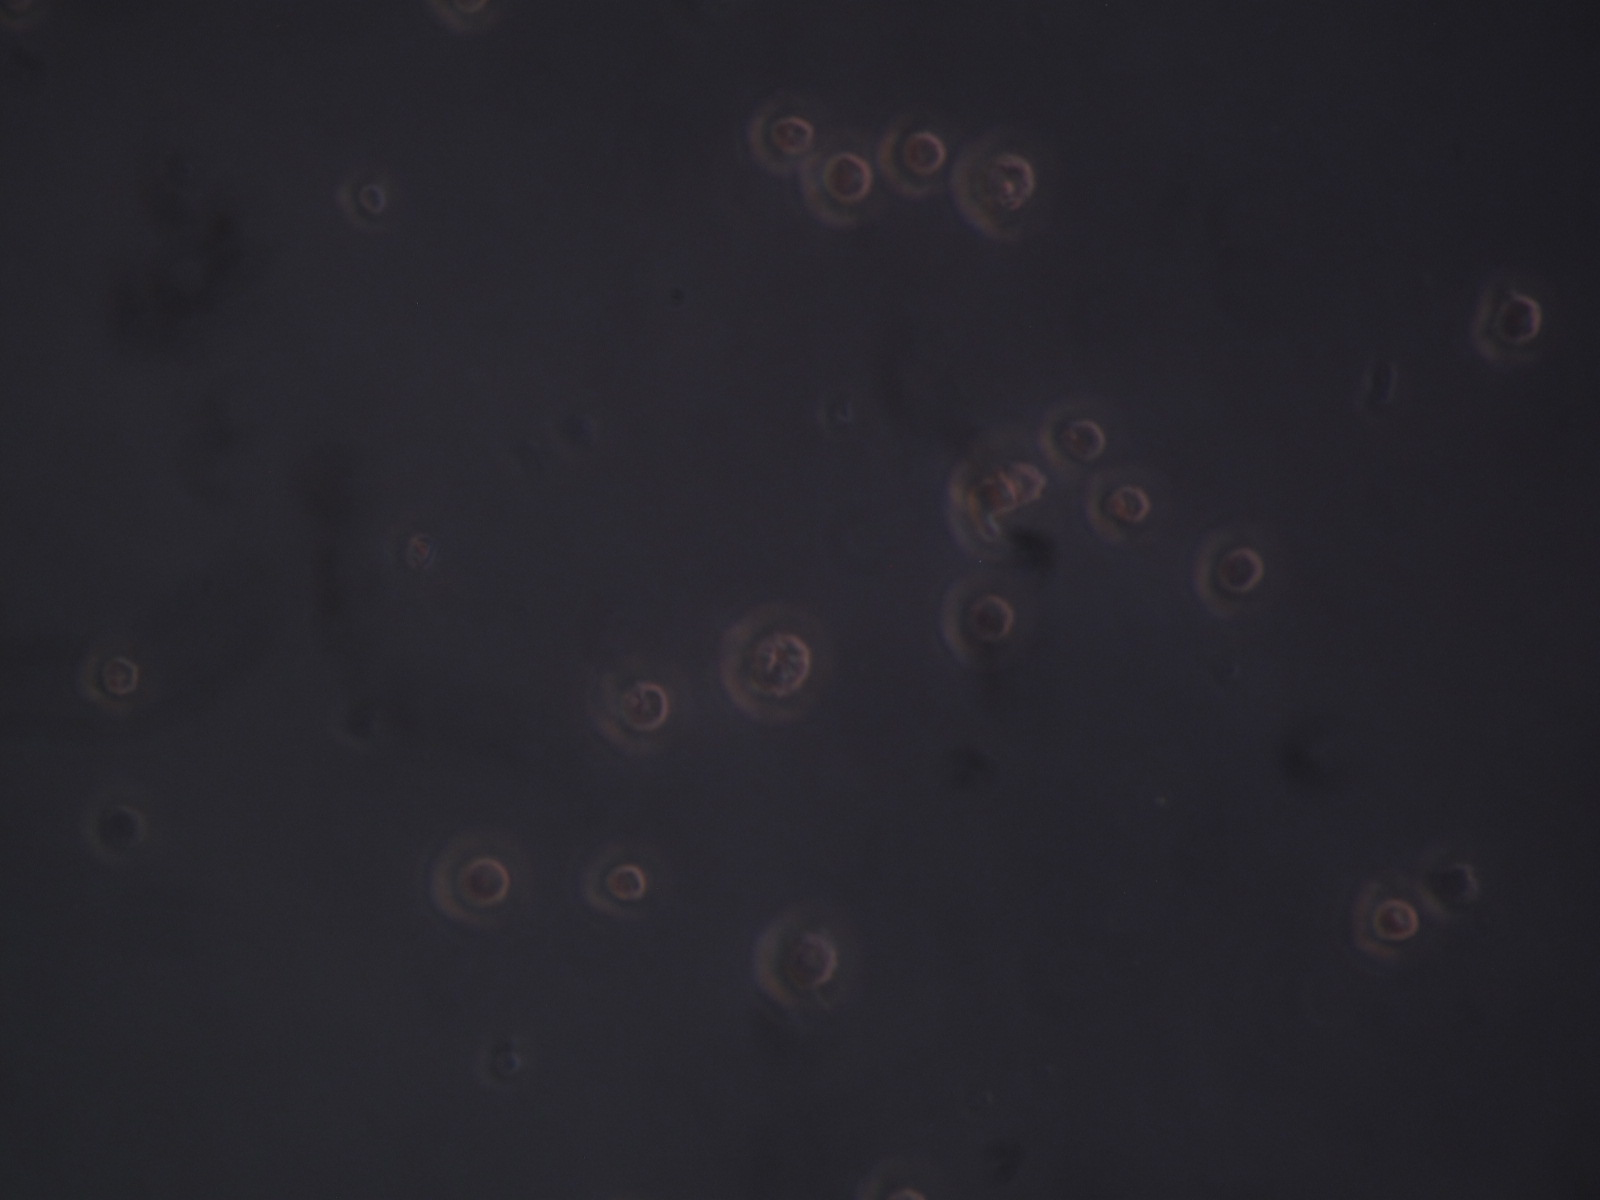hemo: (721, 614, 811, 721), (750, 906, 837, 1010), (952, 142, 1036, 233), (428, 833, 510, 925), (944, 571, 1014, 669), (949, 461, 1019, 550), (1471, 285, 1543, 369), (602, 666, 668, 754), (1194, 532, 1264, 615), (1353, 881, 1419, 963), (801, 151, 871, 228), (876, 127, 945, 197), (1037, 401, 1105, 470), (1085, 478, 1151, 543), (585, 842, 645, 913), (753, 100, 813, 170), (82, 645, 141, 708), (340, 171, 387, 233)
